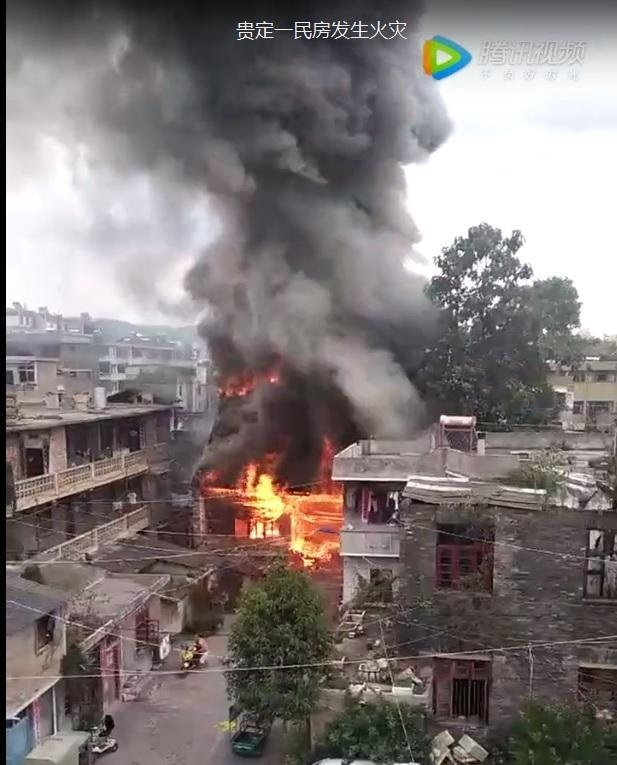fire: (227, 454, 344, 560)
